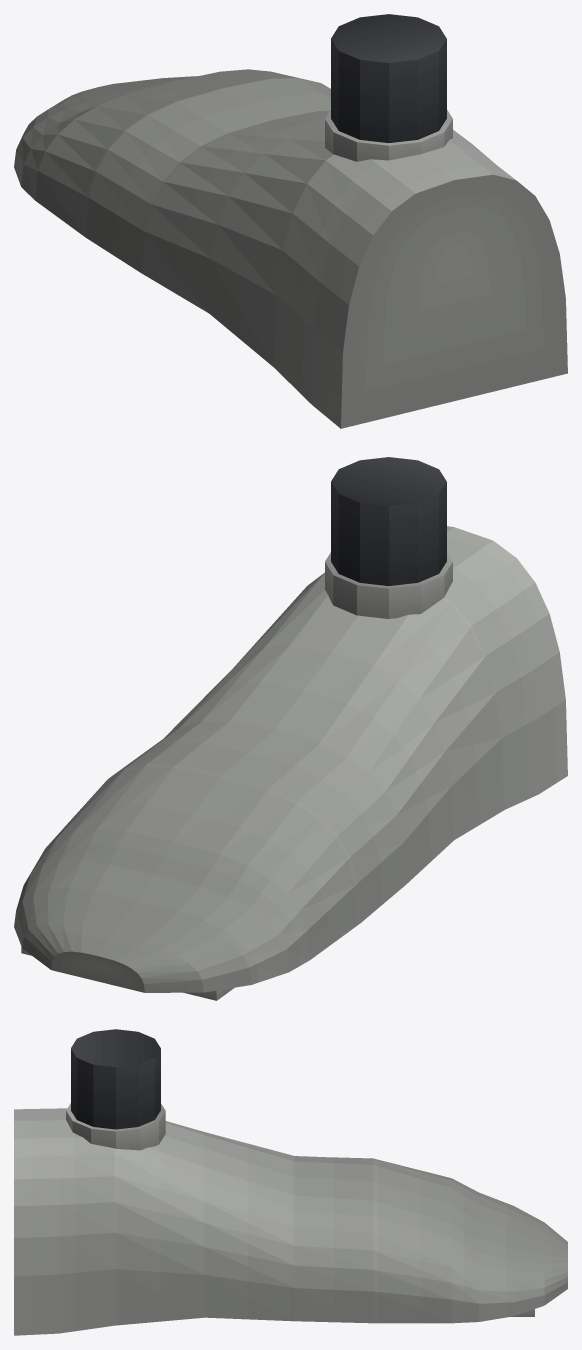
The model's file is streetlight_aeacm.obj.
The picture shows the model from 3 angles, top to bottom: view 1: azimuth 30°, elevation 25°; view 2: azimuth 150°, elevation 25°; view 3: azimuth 270°, elevation 25°; orthographic projection. The views are drawn at different scales.
Visible parts, largest first — view 1: fixture; view 2: fixture; view 3: fixture.
Part boxes in pixels (x1,y1,x2,y2): fixture: (14,14,567,428); fixture: (14,457,567,1000); fixture: (14,1029,567,1335).
Bounding box in the file's own units: 0.325 × 0.3559 × 0.7308.
